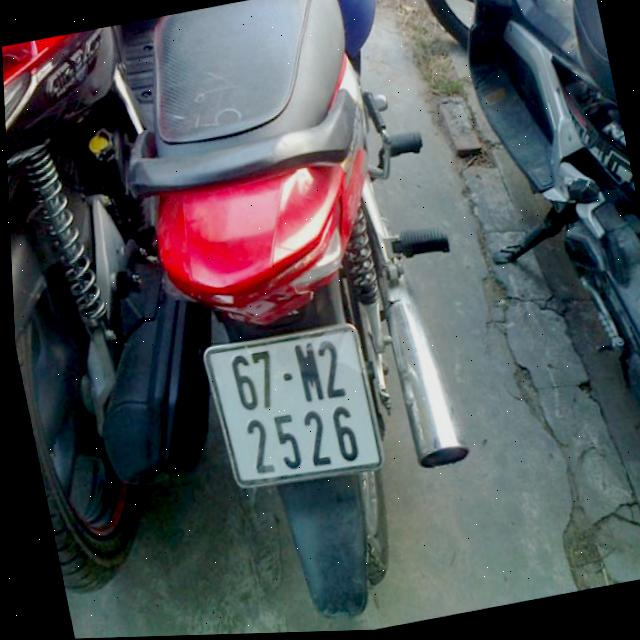motorcycle: (119, 0, 523, 628), (1, 17, 258, 606), (410, 0, 640, 544)
plate: (200, 313, 396, 500)
